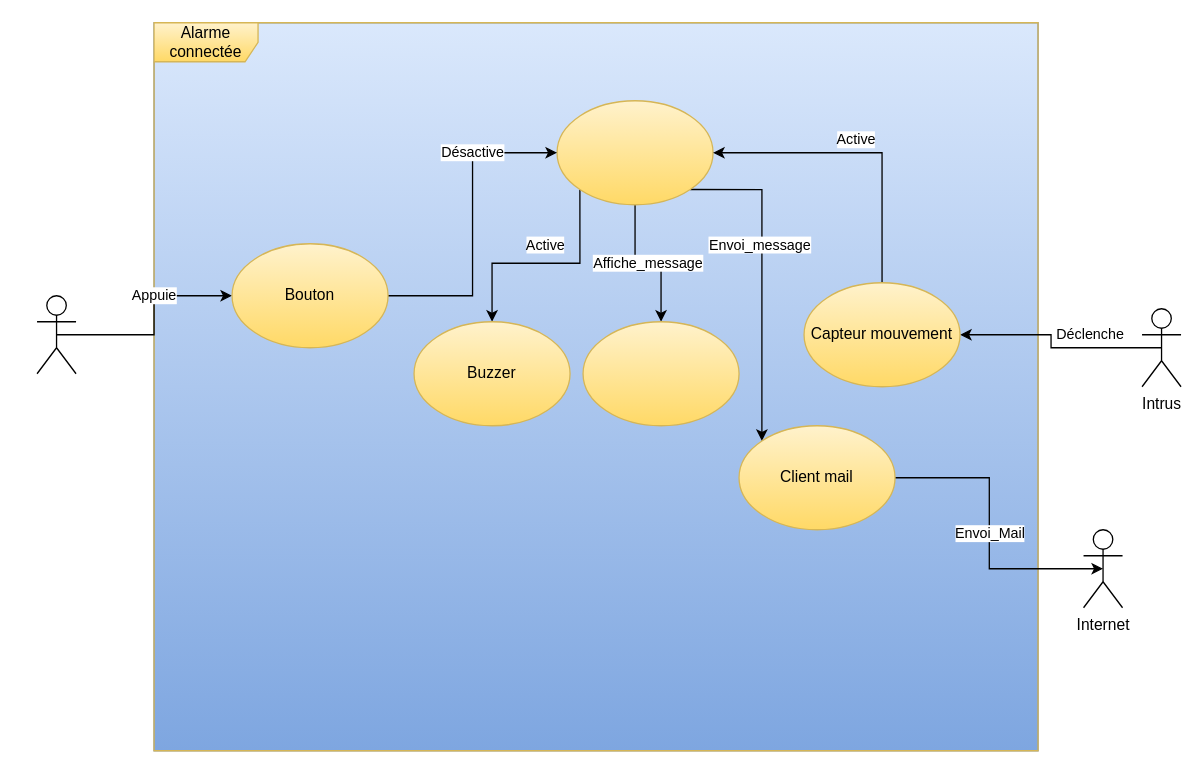
This 1204x774 diagram has some shape labels left out. The shapes that lost their labels are listed below. From the top down, each one's centre as x and y in pixels, then its label:
[634,152]: Alarme
[56,334]: Utilisateur
[660,373]: Ecran
